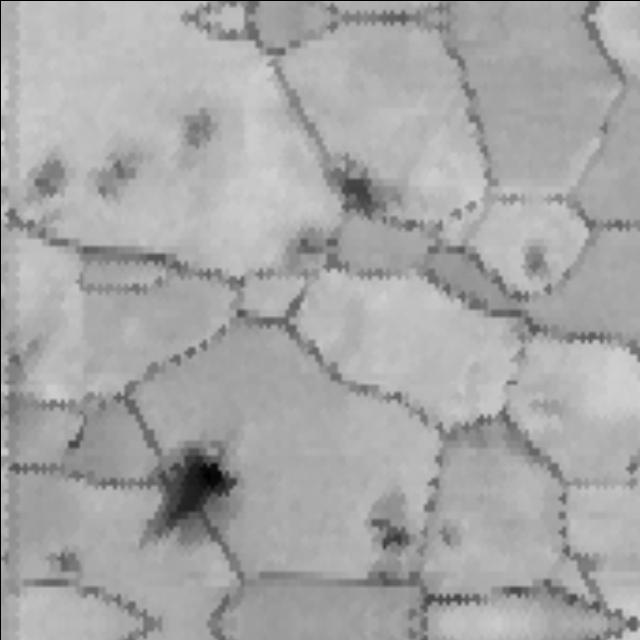good_void: (132, 431, 246, 543), (317, 150, 389, 224), (275, 222, 344, 283), (172, 98, 228, 149), (364, 510, 422, 559), (26, 143, 70, 205), (40, 537, 93, 580), (90, 155, 137, 200), (0, 339, 33, 382), (60, 409, 90, 455), (516, 236, 552, 271), (398, 597, 422, 622), (436, 519, 457, 545), (622, 445, 640, 475), (398, 622, 422, 640)
